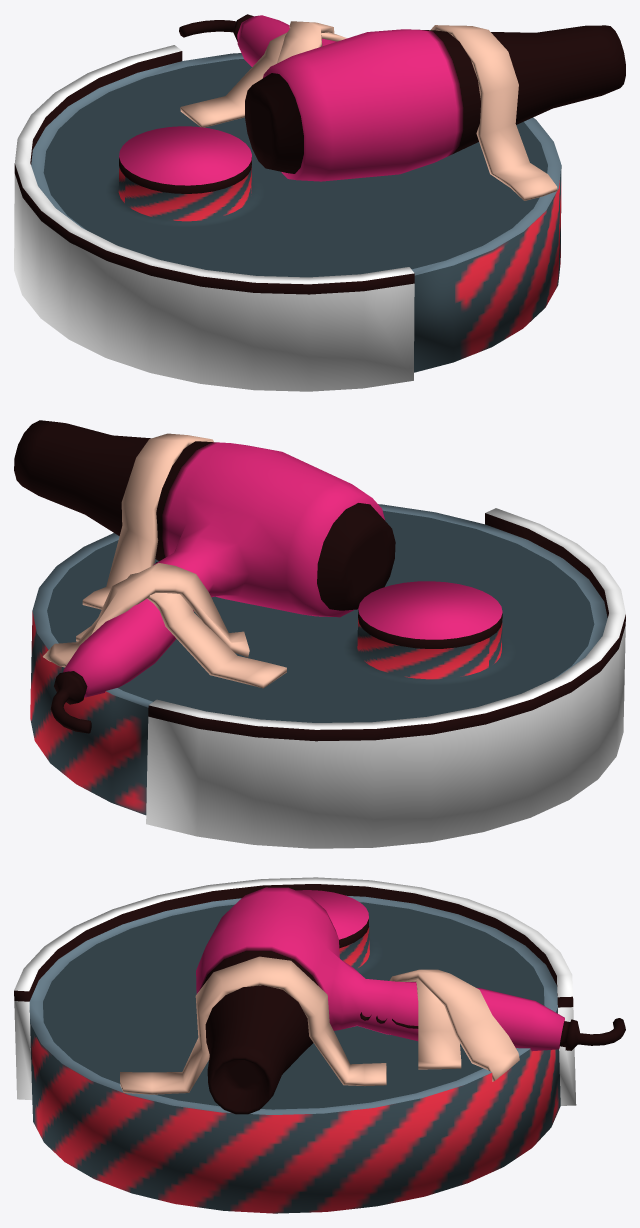
The model's file is фен3.fbx_Scene.fbx.
3 views of the same model, one above another, from view 1: azimuth 30°, elevation 25°; view 2: azimuth 150°, elevation 25°; view 3: azimuth 270°, elevation 25° (orthographic). The views are drawn at different scales.
Visible parts, largest first — view 1: Цилиндр; view 2: Цилиндр; view 3: Цилиндр.
Part boxes in pixels (<box>): Цилиндр: <box>14,14,625,391</box>; Цилиндр: <box>14,420,625,848</box>; Цилиндр: <box>14,877,625,1213</box>.
Size of the model in its own units: 233 by 94.55 by 231.
Materials: 3 (3 with a texture image).
